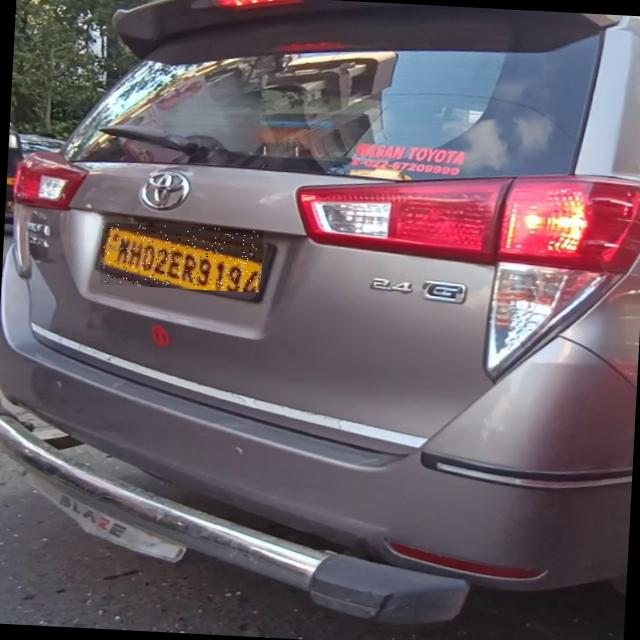Plate: (101, 224, 265, 294)
